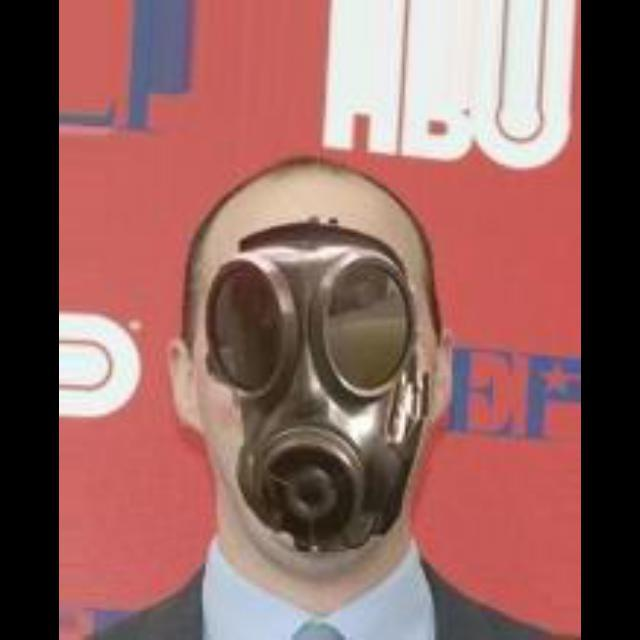suspicion: (169, 162, 459, 536)
